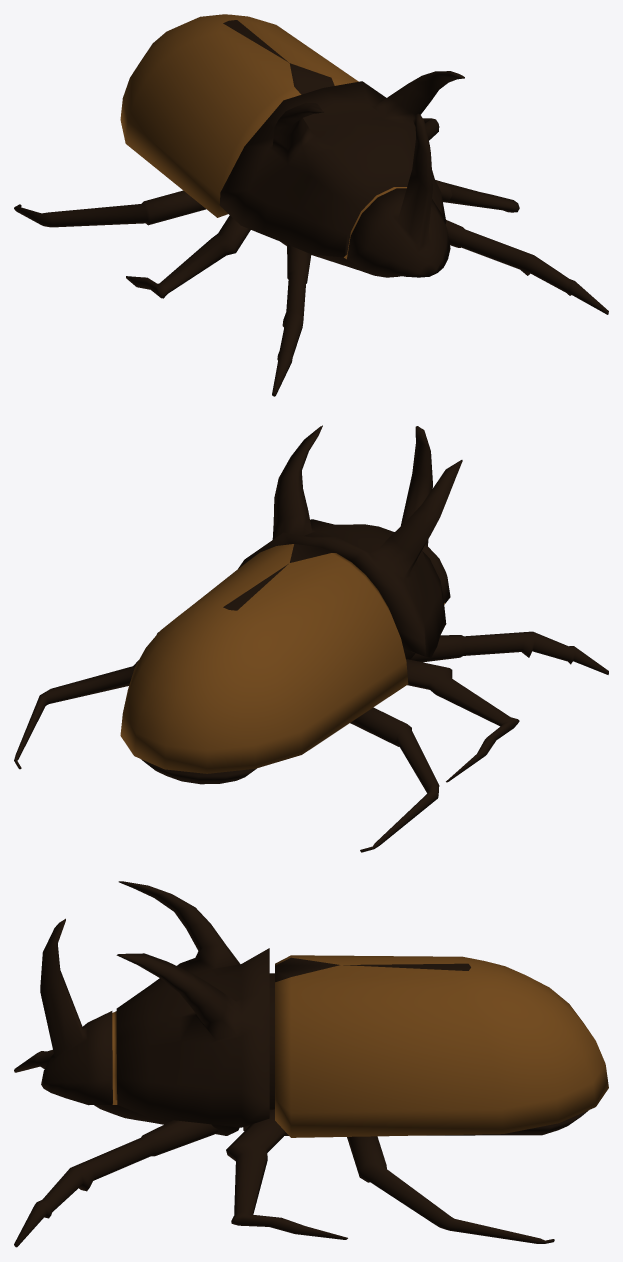
File: rhinoBeetle.fbx
3 renders of one model, top to bottom at view 1: azimuth 30°, elevation 25°; view 2: azimuth 150°, elevation 25°; view 3: azimuth 270°, elevation 25°, orthographic. The views are drawn at different scales.
Parts seen in each view (by area): view 1: Rhino Beetle; view 2: Rhino Beetle; view 3: Rhino Beetle.
Part boxes in pixels (x1,y1,x2,y2): Rhino Beetle: (14, 14, 608, 396); Rhino Beetle: (14, 425, 608, 852); Rhino Beetle: (14, 881, 608, 1247).
Size of the model in its own units: 36.51 by 30.31 by 16.45.
